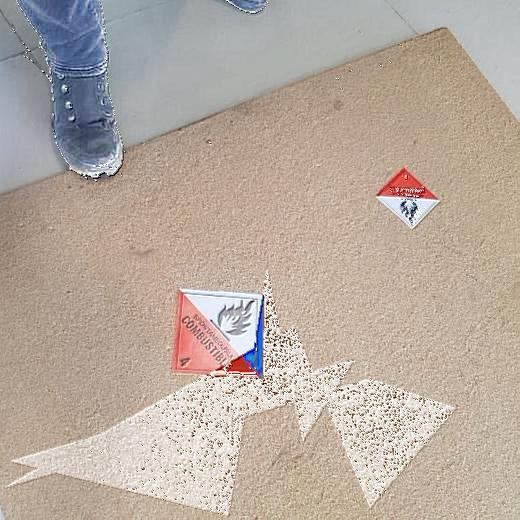spontaneously-combustible: (171, 287, 268, 384), (376, 166, 441, 229)
